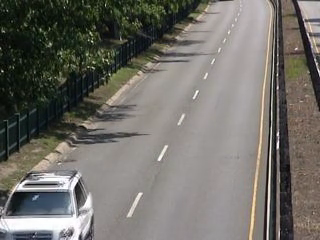car: (1, 167, 103, 240)
